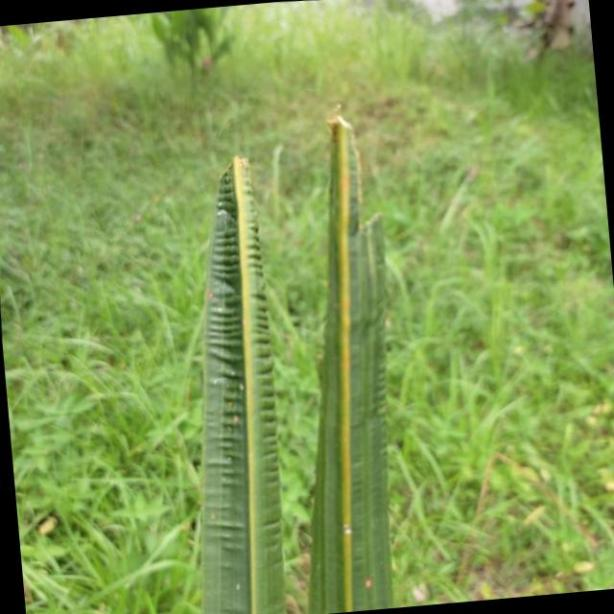Boron: (312, 108, 396, 614), (195, 151, 286, 614)
